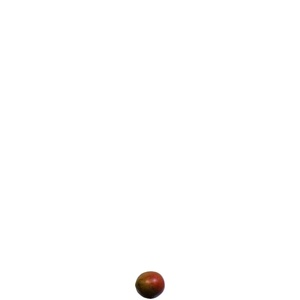manga: (134, 272, 165, 299)
